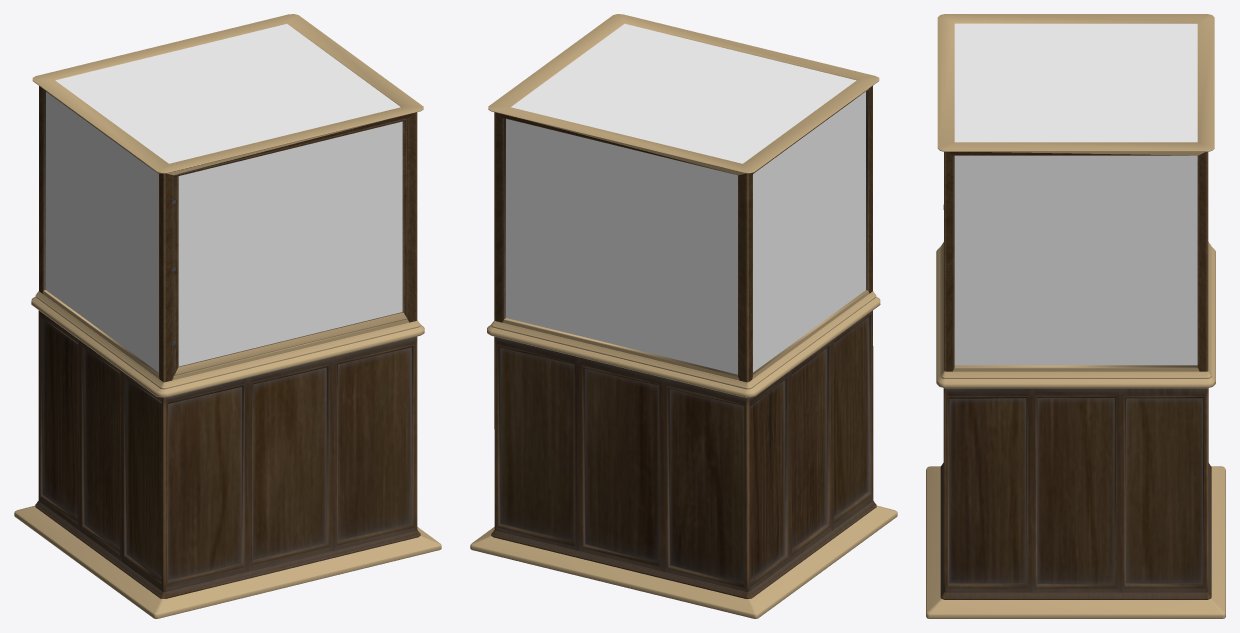
The model's file is necklace-cabinet.glb.
3 renders of one model, left to right at view 1: azimuth 30°, elevation 25°; view 2: azimuth 150°, elevation 25°; view 3: azimuth 270°, elevation 25°, orthographic. The views are drawn at different scales.
Visible parts, largest first — view 1: Downloaded paneled cabinet and mouldings, Downloaded cabinet glazing; view 2: Downloaded paneled cabinet and mouldings, Downloaded cabinet glazing; view 3: Downloaded paneled cabinet and mouldings, Downloaded cabinet glazing.
Boxes of the visible parts, box(x1,y1,x2,y2) form: Downloaded paneled cabinet and mouldings: box(14, 14, 441, 618); Downloaded cabinet glazing: box(46, 24, 402, 372); Downloaded paneled cabinet and mouldings: box(470, 14, 897, 618); Downloaded cabinet glazing: box(506, 24, 865, 374); Downloaded paneled cabinet and mouldings: box(926, 14, 1225, 618); Downloaded cabinet glazing: box(954, 23, 1197, 365).
Bounding box in the file's own units: 1.38 × 2.01 × 1.18.
4 materials, 1 textured.
